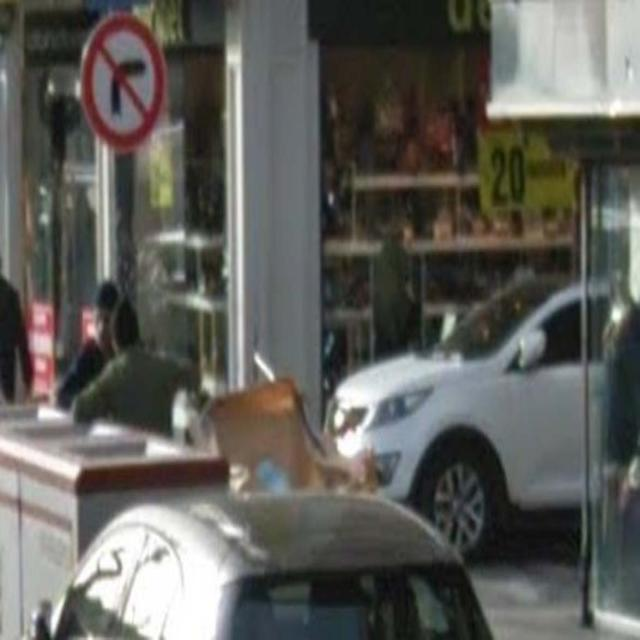sagadonulmez: (78, 15, 166, 153)
